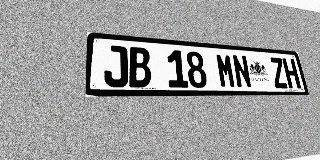1: (166, 49, 189, 88)
8: (185, 51, 208, 88)
B: (128, 47, 152, 87)
H: (282, 58, 301, 88)
J: (104, 45, 128, 87)
M: (215, 53, 237, 88)
N: (231, 54, 252, 88)
Z: (269, 57, 289, 88)
